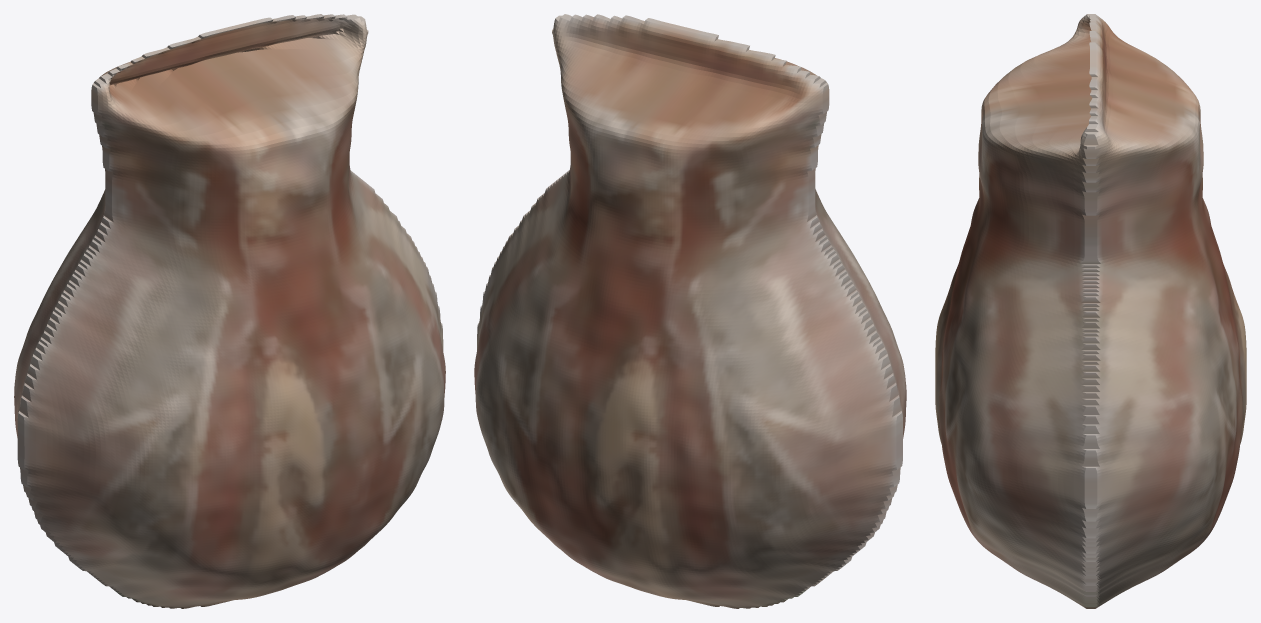
File: modelo_3d.glb
The picture shows the model from 3 angles, left to right: view 1: azimuth 30°, elevation 25°; view 2: azimuth 150°, elevation 25°; view 3: azimuth 270°, elevation 25°; orthographic projection. The views are drawn at different scales.
Parts seen in each view (by area): view 1: geometry_0; view 2: geometry_0; view 3: geometry_0.
Boxes of the visible parts, box(x1,y1,x2,y2) form: geometry_0: box(14, 14, 445, 608); geometry_0: box(474, 14, 906, 608); geometry_0: box(935, 14, 1246, 608).
Bounding box in the file's own units: 1.67 × 2.17 × 1.16.
